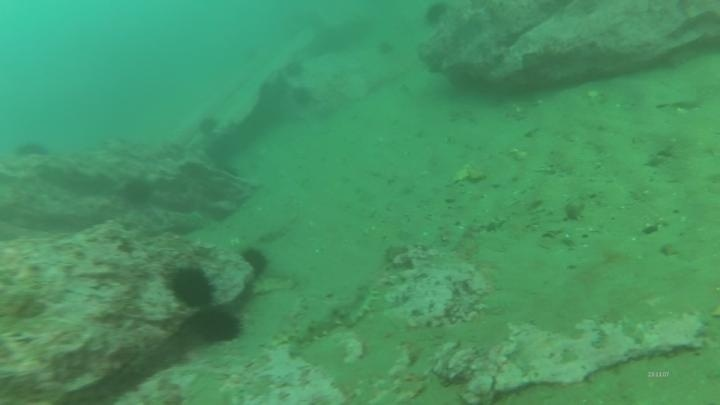echinus: (166, 263, 217, 311), (191, 304, 244, 347), (238, 244, 273, 280), (119, 175, 155, 209), (12, 138, 52, 162), (421, 1, 451, 28), (281, 56, 308, 82), (195, 113, 221, 139)
holothurian: (274, 286, 373, 351)
